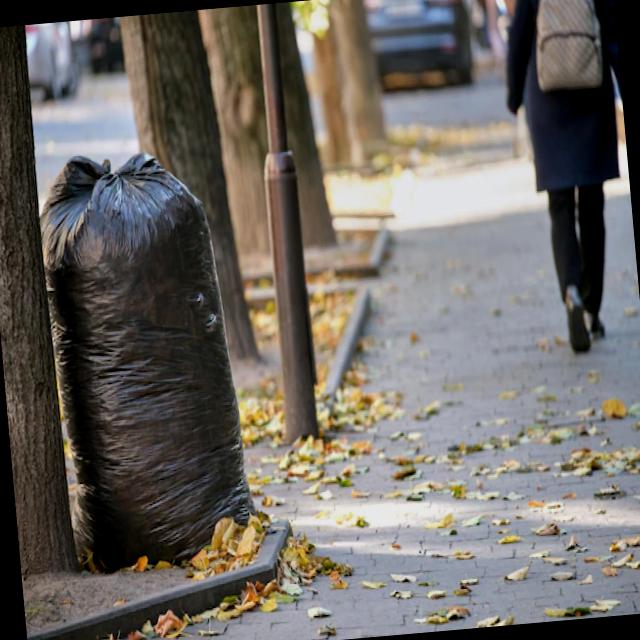garbage: (24, 121, 268, 576)
